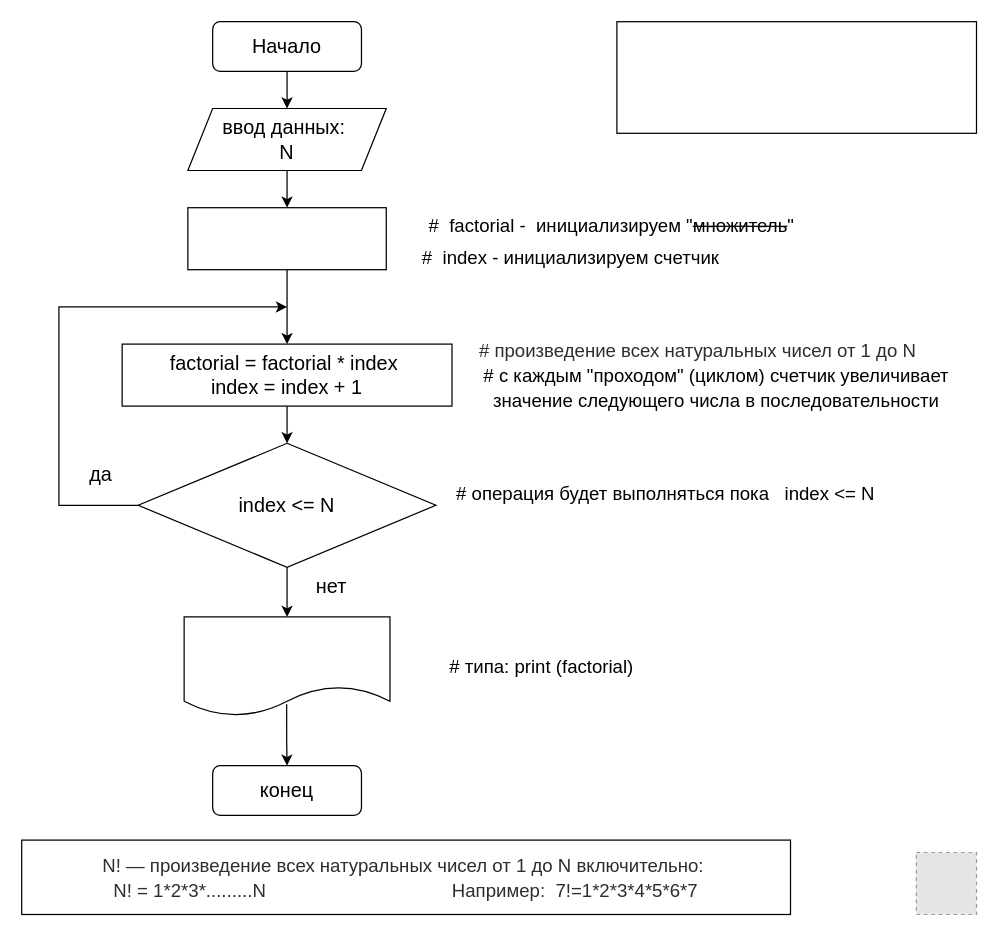
Some shapes in this 998 by 936 pixel diagram are drawn without their labels. Grey dashed boxes stand in for pictures. Here are the shapes that lost their labels. From the top down, the box of each, then its label:
(616, 20, 976, 133): Задача 6. Составить блок-схему нахождения факториала N.
(187, 206, 386, 270): factorial = 1 index = 1
(183, 616, 390, 716): вывод данных: factorial
